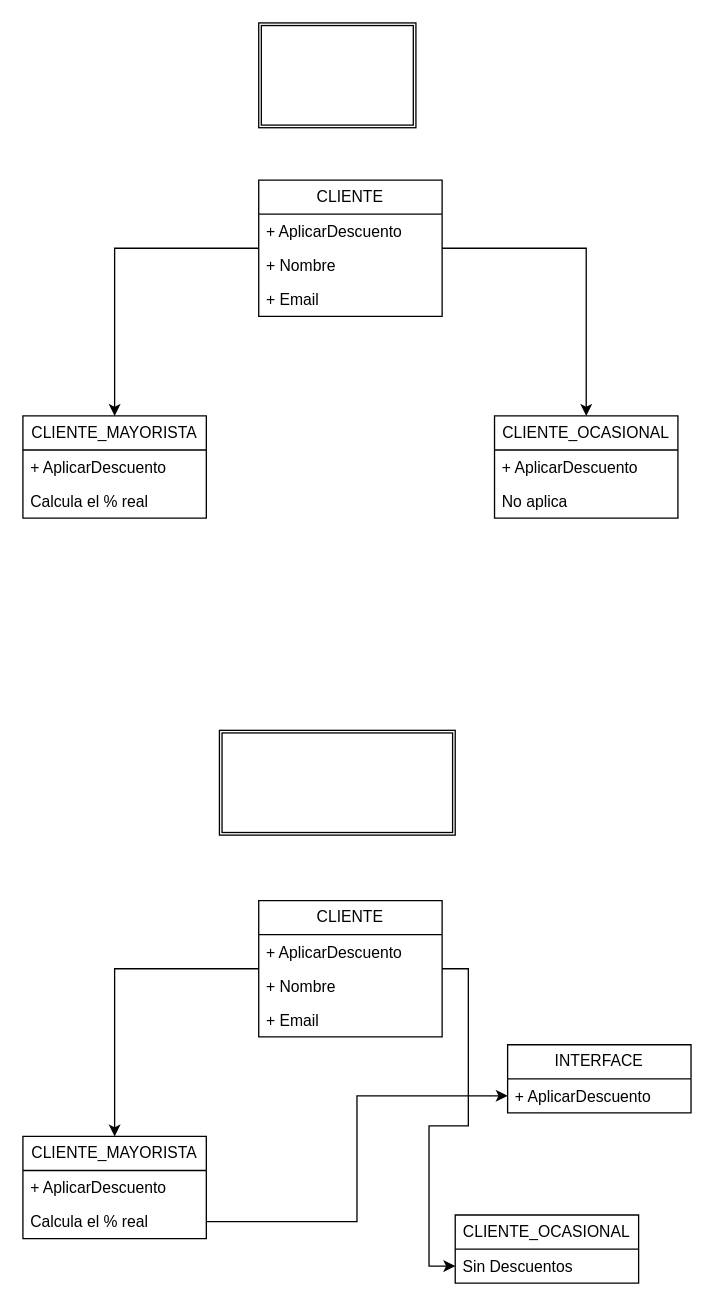
This 714x1310 diagram has some shape labels left out. The shapes that lost their labels are listed below. From the top down, each one's centre as x and y in pixels, then its label:
At pixel 336 75: "HERENCIA MENTIROSA".
At pixel 336 782: "CONTRATO MINIMO CON INTERFACE APARTE".
